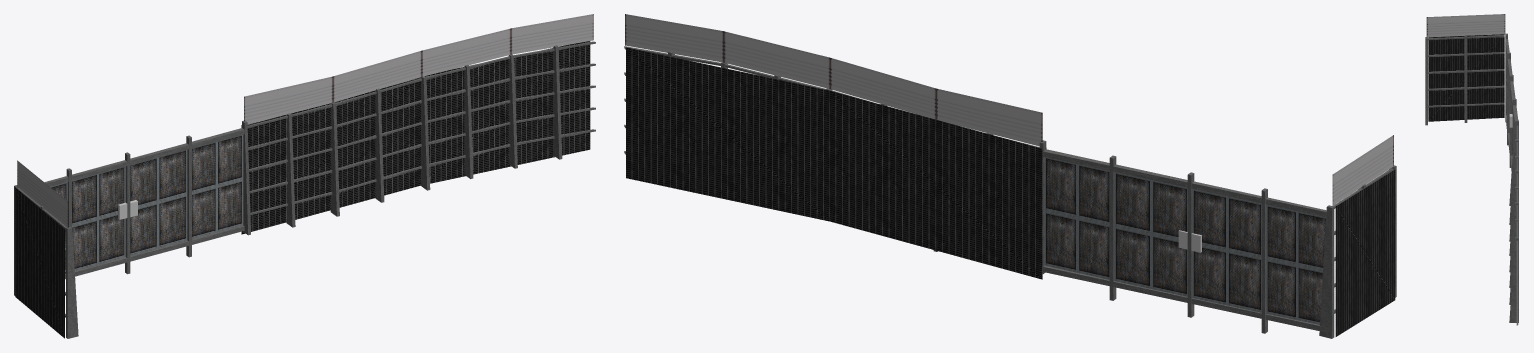
Rendered from vgsselecfence15.obj.
The picture shows the model from 3 angles, left to right: view 1: azimuth 30°, elevation 25°; view 2: azimuth 150°, elevation 25°; view 3: azimuth 270°, elevation 25°; orthographic projection. The views are drawn at different scales.
Parts seen in each view (by area): view 1: vgsSelecfence15; view 2: vgsSelecfence15; view 3: vgsSelecfence15.
Boxes of the visible parts, <box> form: vgsSelecfence15: <box>14,14,595,338</box>; vgsSelecfence15: <box>624,14,1396,338</box>; vgsSelecfence15: <box>1425,14,1518,325</box>.
Size of the model in its own units: 39.74 by 9.5 by 7.19.
